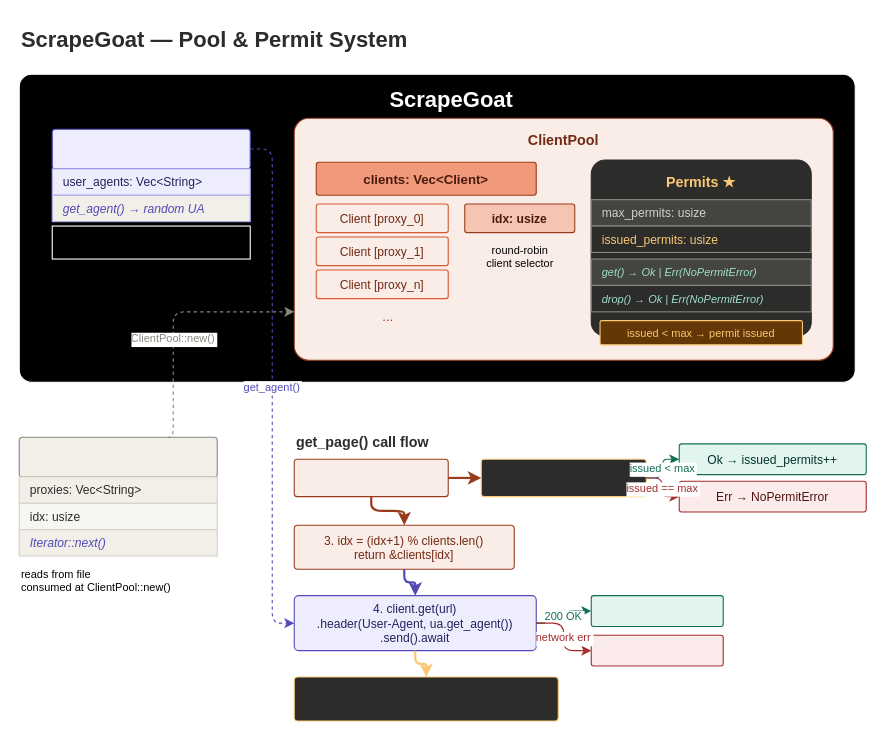
The diagram is 886 pixels wide and 740 high, and some of its shapes have lost their labels. Each missing label, with the centre of its shape:
"1. pool.get()" goes at point (370, 477).
"2. permits.get()" goes at point (563, 477).
"5. pool.drop() permits.drop() → issued_permits--" goes at point (425, 698).
"Err(status, msg)" goes at point (656, 650).
"Ok(String)" goes at point (656, 610).
"Proxies" goes at point (117, 456).
"reads from file random via rand::rng()" goes at point (150, 242).
"UserAgents" goes at point (150, 148).
